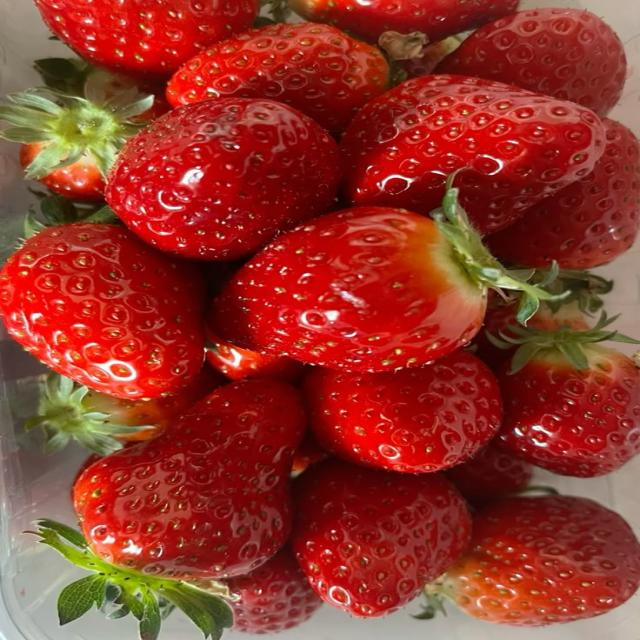strawberry: (38, 381, 304, 638), (208, 189, 550, 372), (74, 381, 304, 578), (341, 75, 605, 233), (106, 98, 339, 260), (0, 224, 204, 398), (292, 460, 471, 617), (434, 496, 639, 626), (167, 23, 389, 135), (303, 350, 502, 473), (499, 315, 639, 477), (487, 119, 639, 268), (438, 8, 626, 115), (27, 365, 226, 455), (0, 85, 154, 201), (36, 0, 257, 77), (290, 0, 518, 42), (226, 547, 321, 634), (446, 443, 533, 507), (207, 332, 306, 383), (528, 271, 613, 330), (27, 154, 104, 201), (473, 297, 518, 371), (399, 37, 460, 78), (293, 429, 328, 473)
